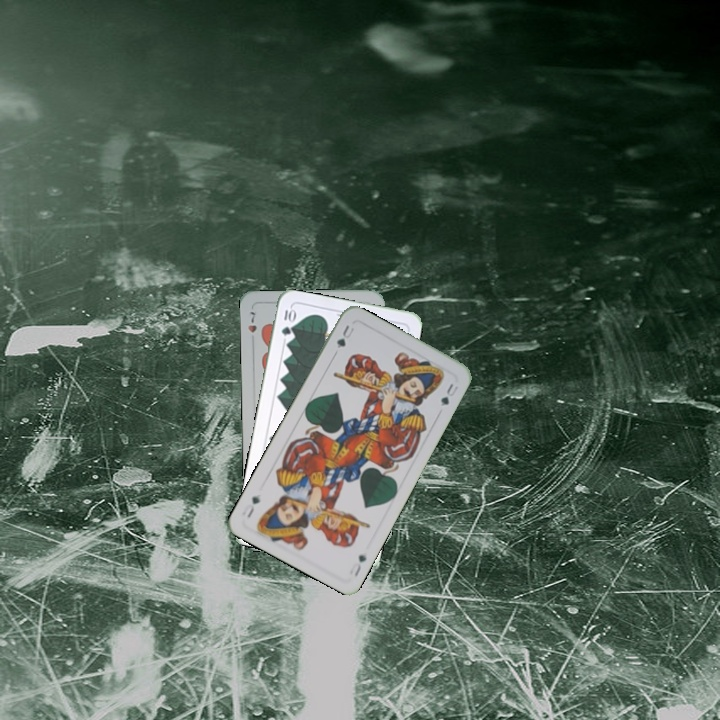G10: (277, 304, 297, 339)
GU: (332, 321, 357, 351), (345, 550, 369, 580)
H7: (244, 308, 259, 346)
